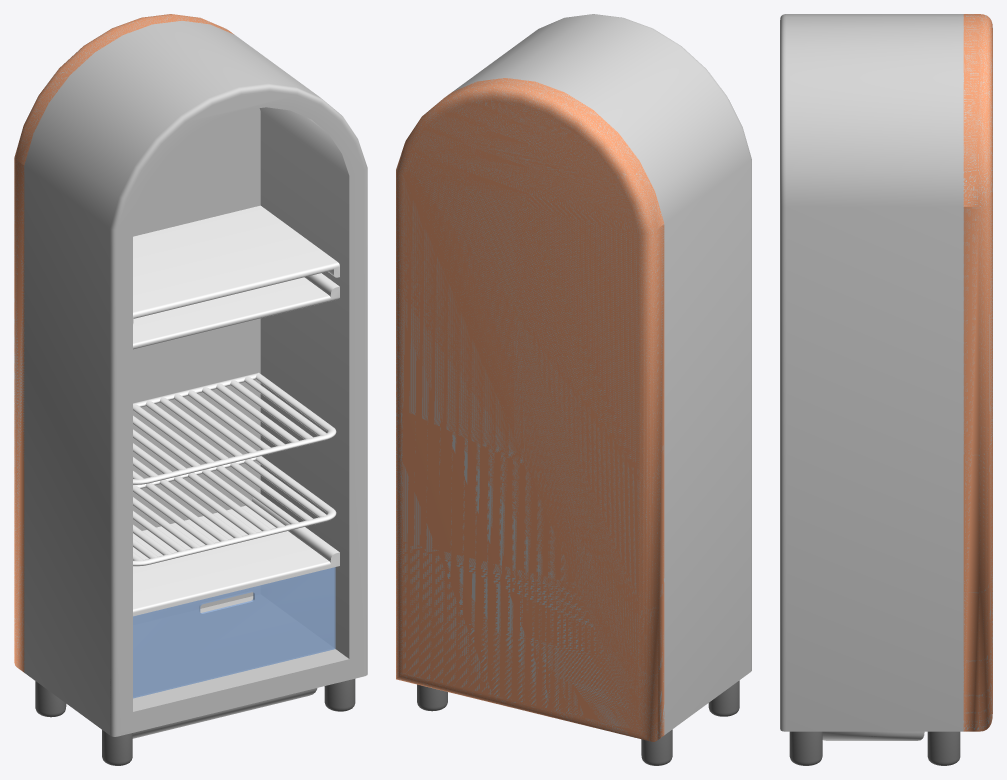
File: frame.dae
3 renders of one model, left to right at view 1: azimuth 30°, elevation 25°; view 2: azimuth 150°, elevation 25°; view 3: azimuth 270°, elevation 25°, orthographic. The views are drawn at different scales.
Visible parts, largest first — view 1: group_18.002, group_18.001, group_1.001, group_13, group_0, group_18, group_12, D_1_.056, D_1_.026, group_18.003, group_7, group_10 (+21 smaller); view 2: group_18, group_18.002, group_8, group_7, group_9; view 3: group_18.002, group_18, group_10, group_9, group_18.003.
Boxes of the visible parts, bbox=[...] form: group_18.002: bbox=[24, 20, 367, 736]; group_18.001: bbox=[133, 107, 349, 711]; group_1.001: bbox=[133, 567, 335, 698]; group_13: bbox=[133, 205, 339, 323]; group_0: bbox=[133, 497, 339, 616]; group_18: bbox=[14, 14, 234, 672]; group_12: bbox=[133, 273, 339, 349]; D_1_.056: bbox=[133, 372, 336, 484]; D_1_.026: bbox=[133, 456, 336, 566]; group_18.003: bbox=[132, 688, 317, 738]; group_7: bbox=[102, 730, 132, 765]; group_10: bbox=[324, 679, 355, 711]; group_18: bbox=[396, 78, 664, 741]; group_18.002: bbox=[452, 14, 751, 734]; group_8: bbox=[641, 729, 672, 765]; group_7: bbox=[708, 680, 739, 716]; group_9: bbox=[417, 684, 447, 711]; group_18.002: bbox=[780, 14, 963, 731]; group_18: bbox=[963, 14, 992, 731]; group_10: bbox=[789, 731, 822, 765]; group_9: bbox=[927, 731, 960, 765]; group_18.003: bbox=[822, 731, 924, 740].
Bounding box in the file's own units: 0.8366 × 0.581 × 2.04.
